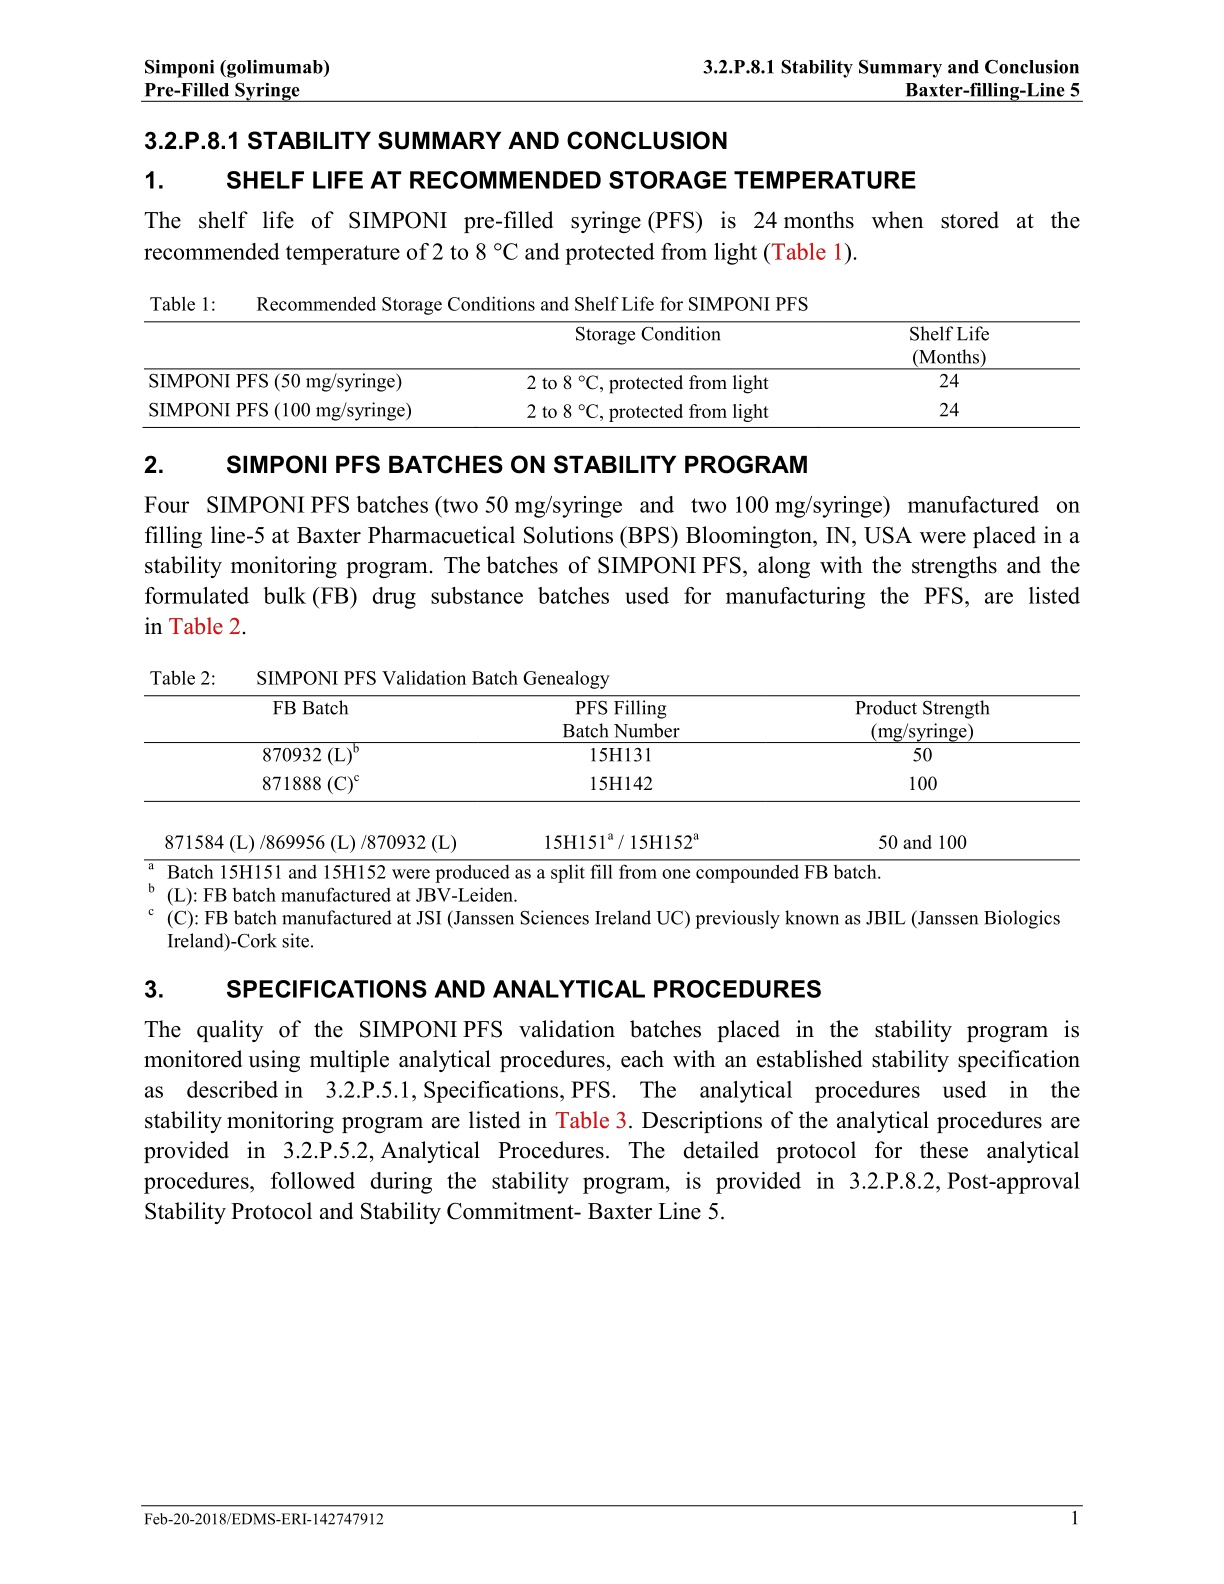partial_lined: (145, 694, 1081, 860), (141, 320, 1080, 428)
